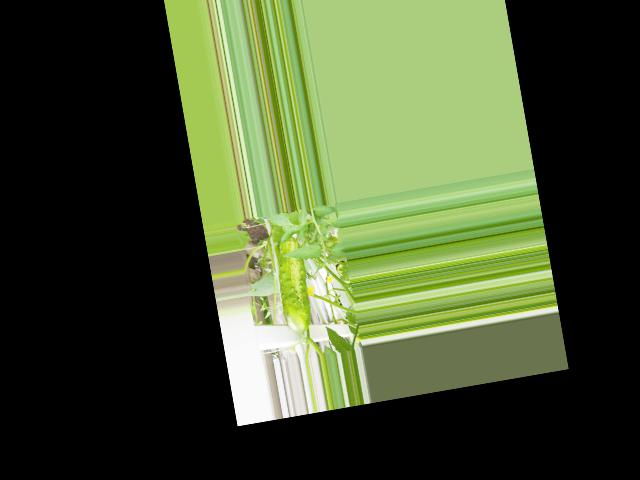cucumber: (271, 236, 314, 335)
